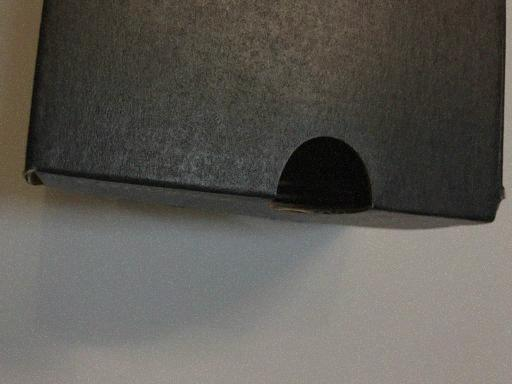cardboard: (0, 4, 512, 384), (3, 4, 512, 231)
